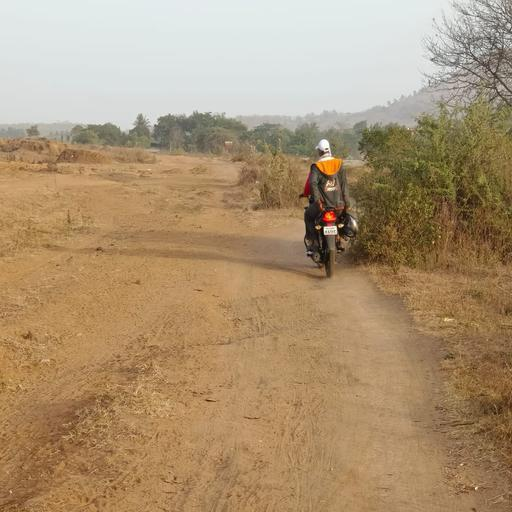vehicle_track: (169, 222, 461, 512)
